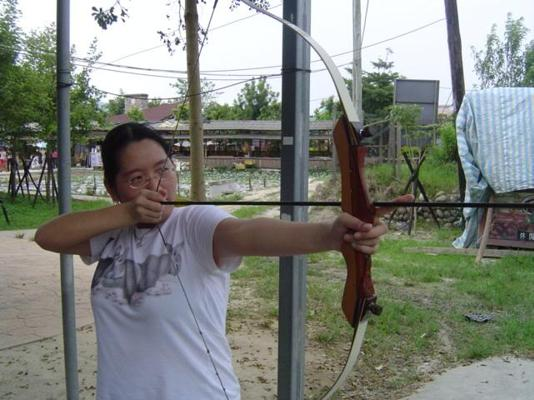person: (32, 122, 410, 400)
